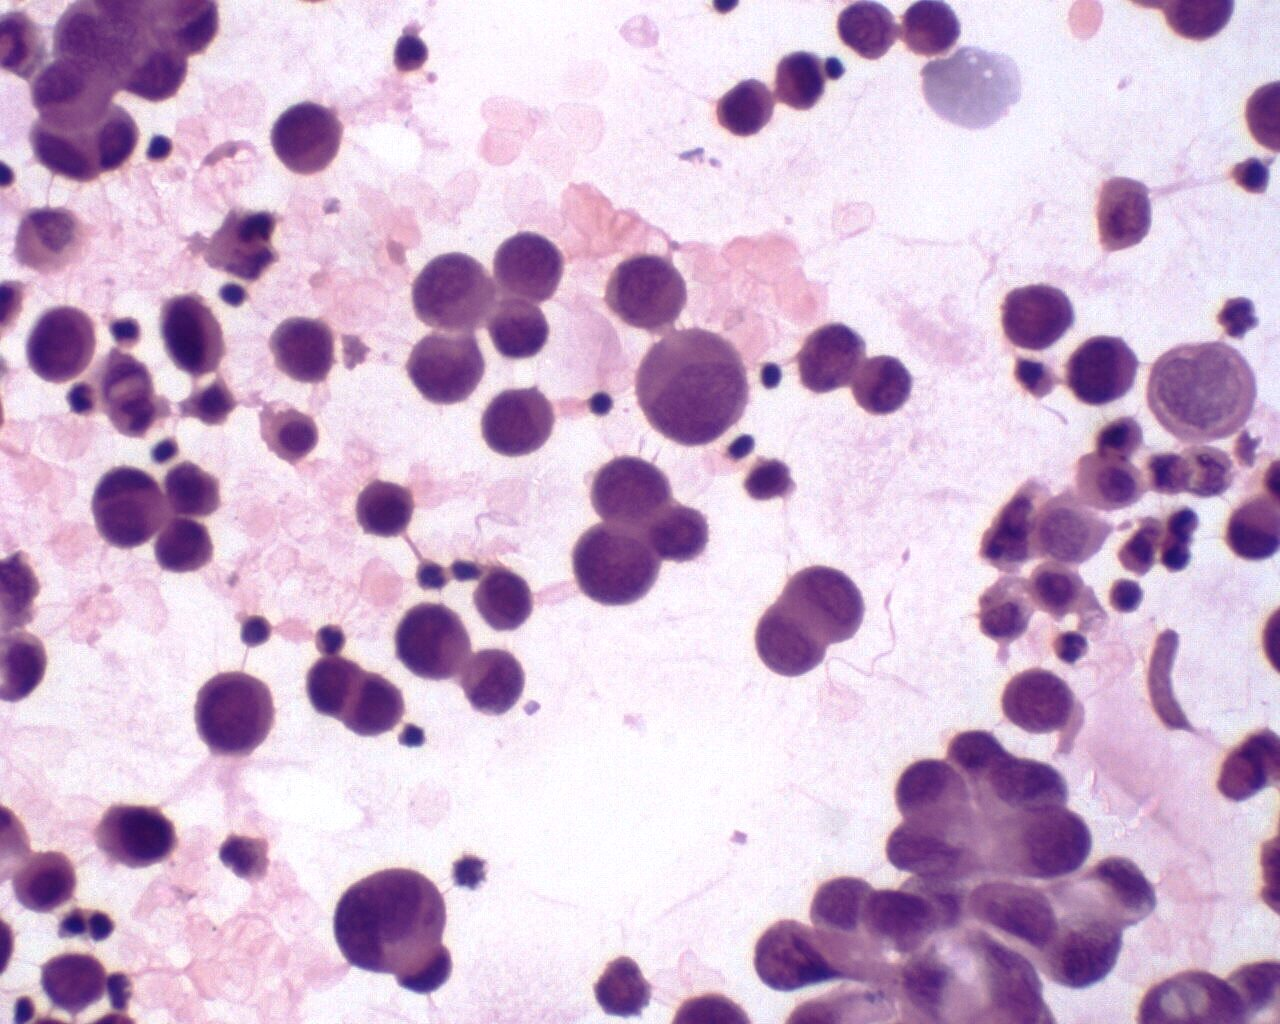ab: (325, 867, 458, 994), (631, 329, 755, 448), (987, 805, 1096, 887), (189, 669, 280, 760), (571, 523, 657, 613), (965, 869, 1063, 949), (410, 247, 494, 334), (91, 794, 174, 875), (605, 255, 688, 334), (406, 327, 487, 405), (397, 602, 471, 686), (754, 598, 831, 678), (158, 294, 229, 379), (479, 382, 556, 460), (266, 99, 343, 178), (27, 303, 100, 385), (589, 452, 673, 523), (1069, 334, 1143, 413), (1000, 279, 1076, 353), (844, 345, 916, 423), (494, 228, 567, 304), (1002, 662, 1075, 735), (267, 312, 338, 383), (797, 318, 860, 392), (150, 513, 216, 576), (713, 76, 775, 142), (353, 475, 414, 539)
lymph: (1107, 574, 1145, 616), (584, 389, 623, 422)
meso: (11, 843, 80, 914), (1074, 448, 1143, 513), (258, 399, 319, 466)
neutro: (306, 620, 356, 661), (1050, 627, 1093, 668)
